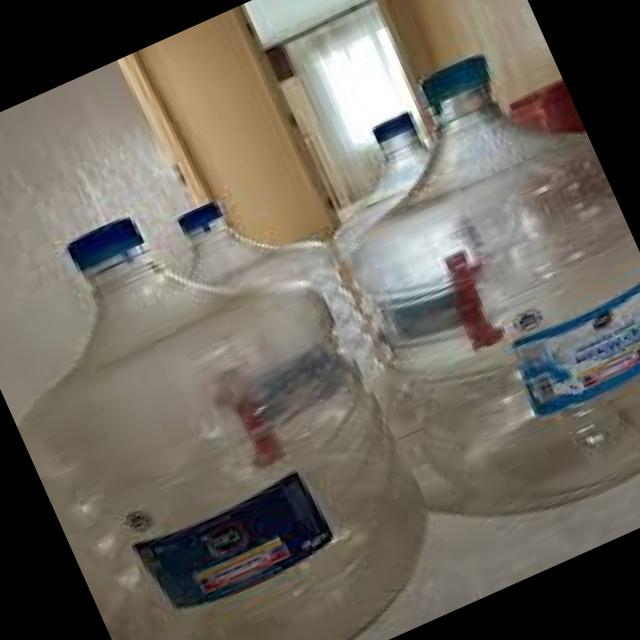Galon: (0, 148, 470, 640), (263, 23, 640, 561)
